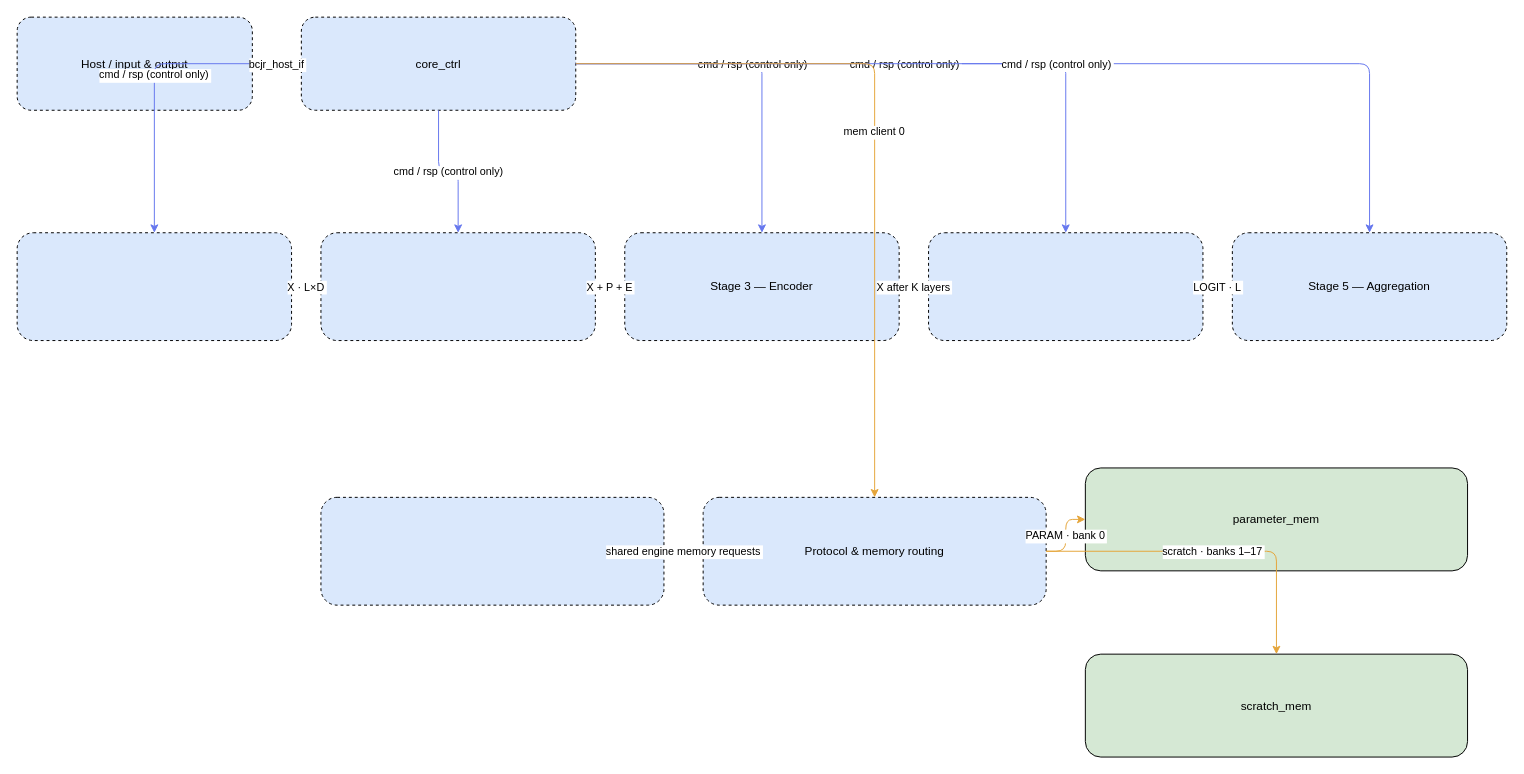
This 1524x774 diagram has some shape labels left out. The centre of each missing label's shape, as x and y in pixels:
"Shared compute services" belongs at pixel 492 550.
"Stage 1 — Input embedding" belongs at pixel 154 286.
"Stage 2 — Position/read embedding" belongs at pixel 457 286.
"Stage 4 — Final projection" belongs at pixel 1065 286.
